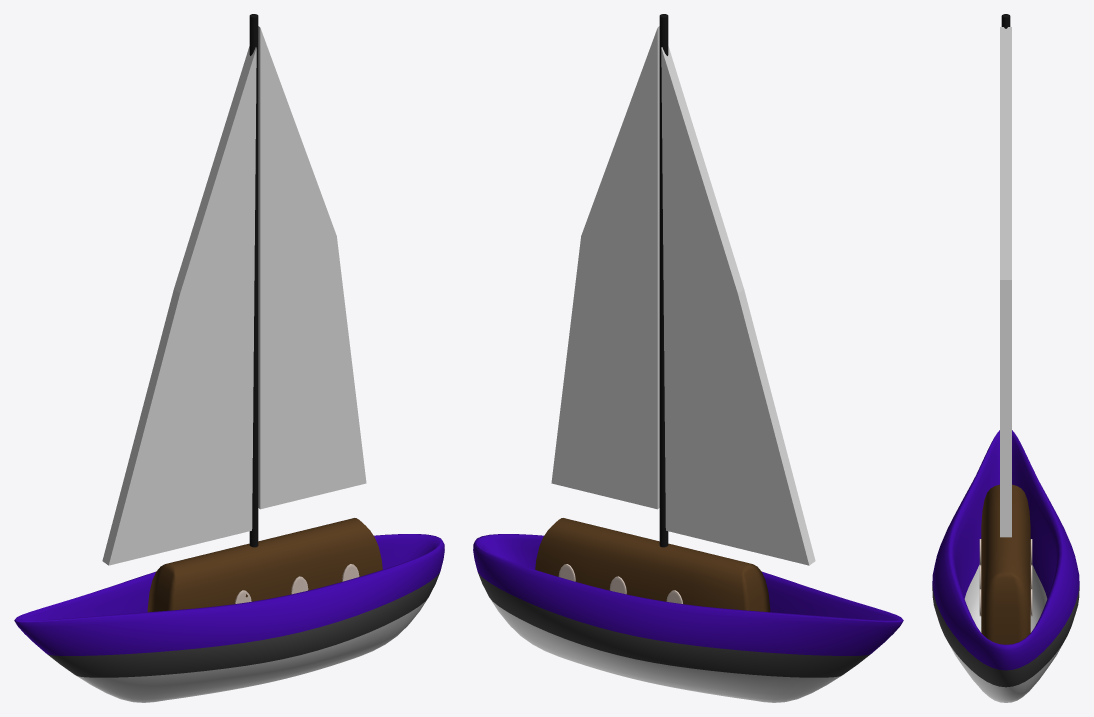
Rendered from GroteZeilboot_01.fbx.
3 renders of one model, left to right at view 1: azimuth 30°, elevation 25°; view 2: azimuth 150°, elevation 25°; view 3: azimuth 270°, elevation 25°, orthographic. The views are drawn at different scales.
Parts seen in each view (by area): view 1: Wind2; view 2: Wind2; view 3: Wind2.
Part boxes in pixels (bbox=[...]): Wind2: bbox=[14, 14, 444, 702]; Wind2: bbox=[473, 14, 903, 702]; Wind2: bbox=[932, 14, 1079, 702].
Bounding box in the file's own units: 0.0675 × 0.0993 × 0.021.
